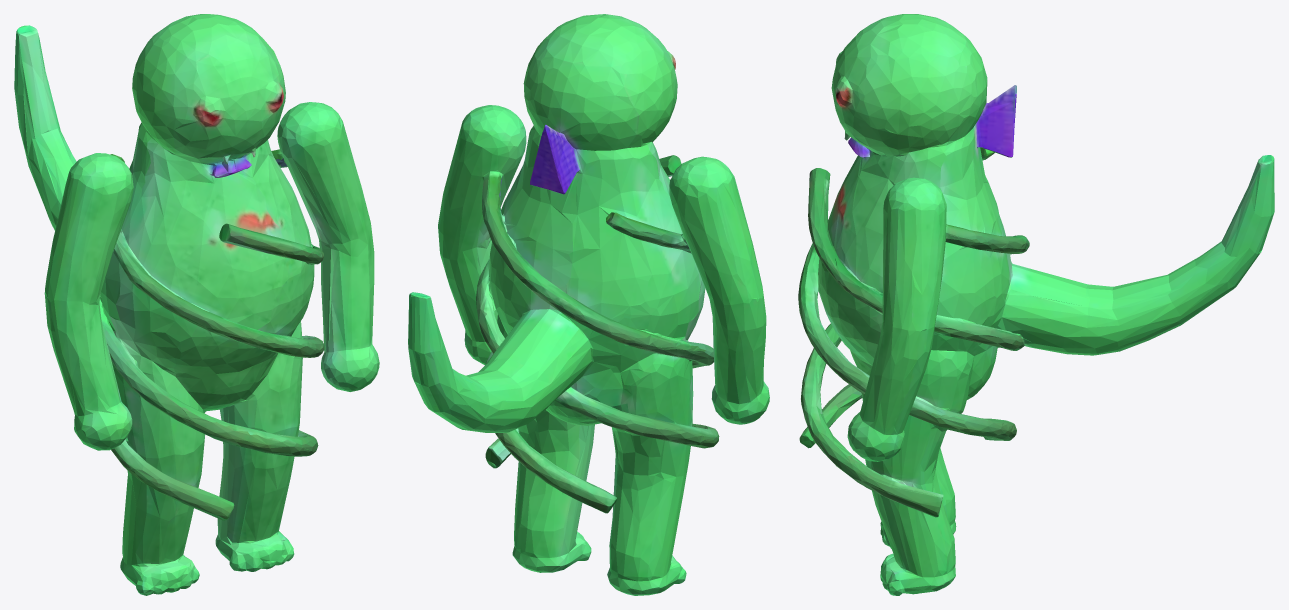
File: creature-087.lod.glb
3 renders of one model, left to right at view 1: azimuth 30°, elevation 25°; view 2: azimuth 150°, elevation 25°; view 3: azimuth 270°, elevation 25°, orthographic.
Parts seen in each view (by area): view 1: tmpmrdbq3um.ply; view 2: tmpmrdbq3um.ply; view 3: tmpmrdbq3um.ply.
Boxes of the visible parts, x1,y1,x2,y2 form: tmpmrdbq3um.ply: (14, 14, 379, 595); tmpmrdbq3um.ply: (408, 14, 769, 595); tmpmrdbq3um.ply: (798, 14, 1274, 595).
Size of the model in its own units: 1.21 by 1.99 by 1.59.
Materials: 1 (1 with a texture image).
